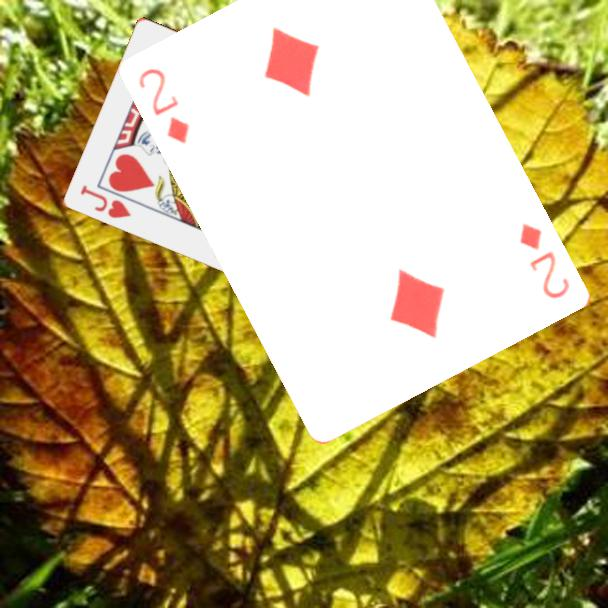d02: (135, 64, 194, 148), (516, 219, 574, 302)
h11: (77, 181, 134, 221)
